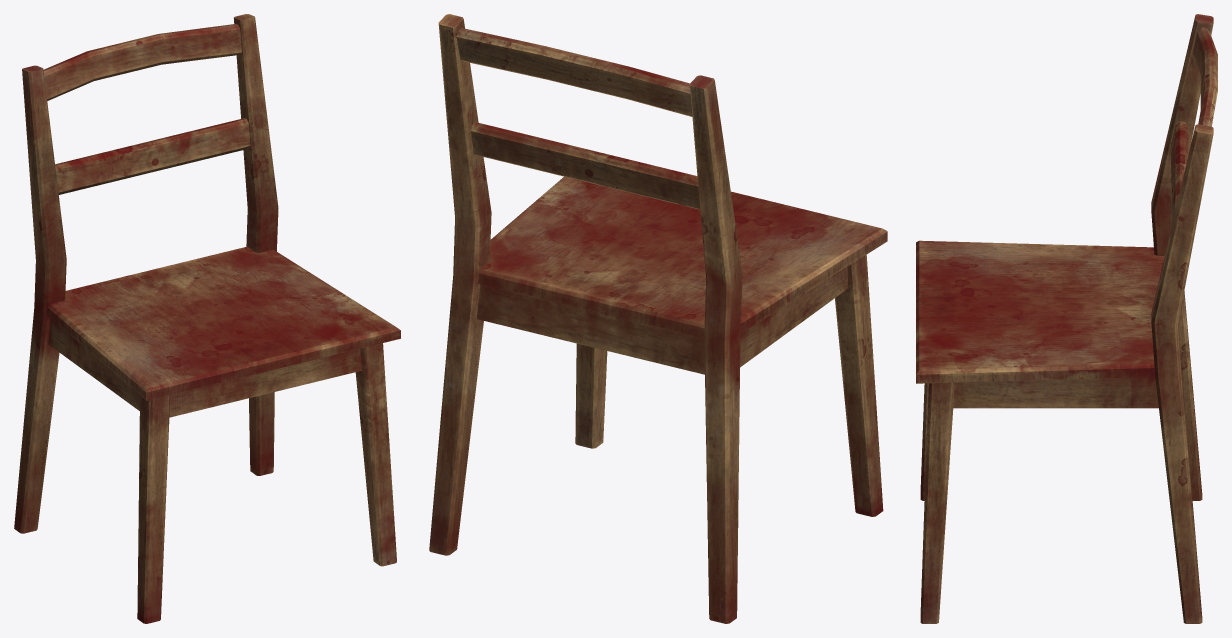
File: chair_wood_1.FBX
3 views of the same model, side by side, from view 1: azimuth 30°, elevation 25°; view 2: azimuth 150°, elevation 25°; view 3: azimuth 270°, elevation 25° (orthographic). The views are drawn at different scales.
Parts seen in each view (by area): view 1: chair_wood; view 2: chair_wood; view 3: chair_wood.
Boxes of the visible parts, x1,y1,x2,y2 form: chair_wood: [14, 14, 400, 623]; chair_wood: [429, 14, 887, 623]; chair_wood: [916, 14, 1217, 623].
Bounding box in the file's own units: 47.73 × 81.5 × 45.95.
